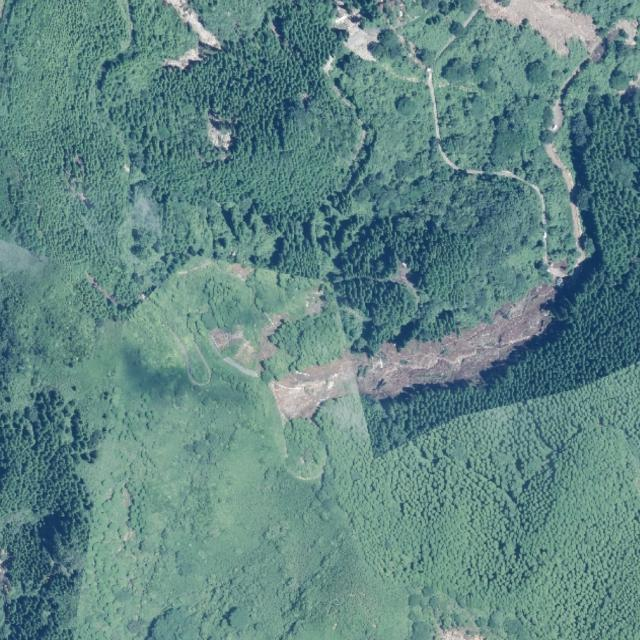landslide: (270, 285, 556, 419)
